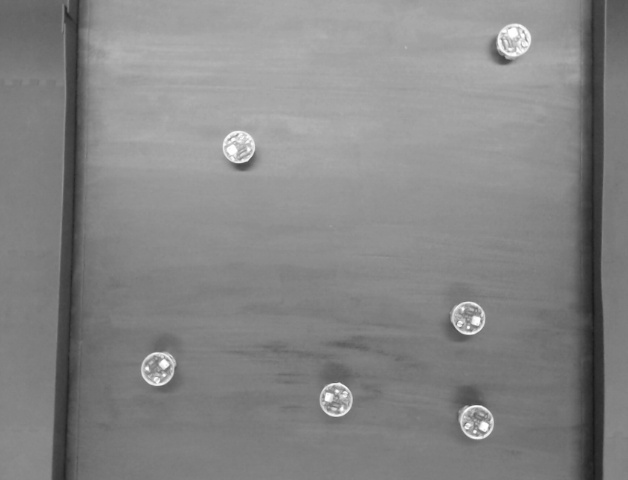epuck_2: (450, 397, 507, 450), (131, 345, 185, 393), (313, 380, 362, 426), (444, 299, 493, 341), (219, 127, 259, 170), (493, 22, 535, 62)
